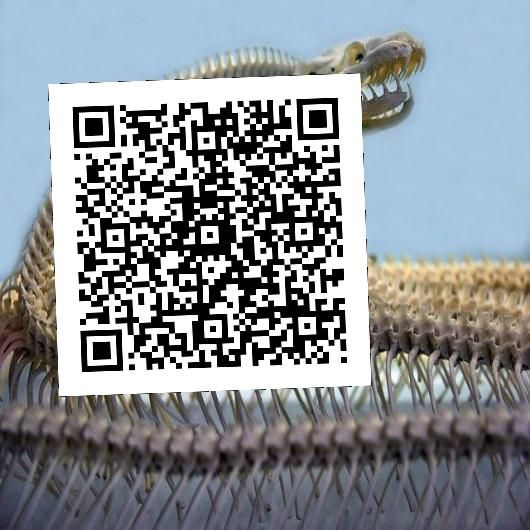qr_code: (48, 73, 371, 396)
